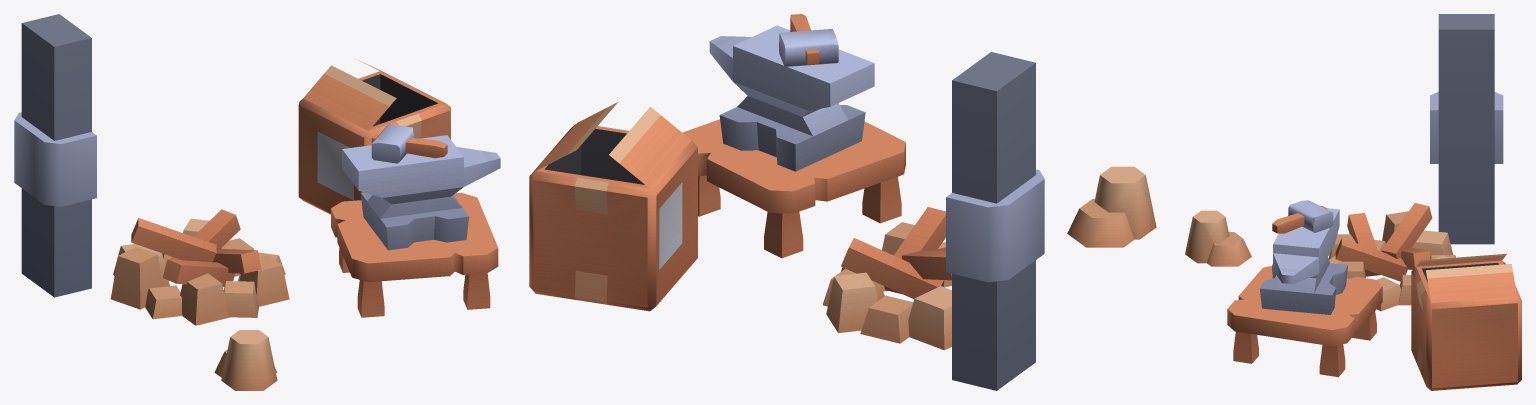
The model's file is bld_smelter_2x2.glb.
3 renders of one model, left to right at view 1: azimuth 30°, elevation 25°; view 2: azimuth 150°, elevation 25°; view 3: azimuth 270°, elevation 25°, orthographic. The views are drawn at different scales.
Parts seen in each view (by area): view 1: workbench-anvil, chimney, box-open, campfire-pit, wood, resource-stone, hammer; view 2: workbench-anvil, box-open, chimney, campfire-pit, wood, resource-stone, hammer; view 3: chimney, box-open, workbench-anvil, wood, campfire-pit, resource-stone, hammer.
Boxes of the visible parts, left/top/right/bottom form: workbench-anvil: left=331, top=135, right=500, bottom=317; chimney: left=14, top=14, right=96, bottom=297; box-open: left=298, top=59, right=450, bottom=214; campfire-pit: left=110, top=218, right=289, bottom=325; wood: left=131, top=209, right=261, bottom=286; resource-stone: left=214, top=330, right=277, bottom=390; hammer: left=371, top=124, right=447, bottom=163; workbench-anvil: left=682, top=25, right=905, bottom=258; box-open: left=529, top=102, right=697, bottom=311; chimney: left=946, top=52, right=1044, bottom=390; campfire-pit: left=822, top=222, right=951, bottom=350; wood: left=841, top=207, right=951, bottom=298; resource-stone: left=1067, top=166, right=1156, bottom=247; hammer: left=779, top=14, right=838, bottom=66; chimney: left=1430, top=14, right=1503, bottom=244; box-open: left=1411, top=253, right=1521, bottom=390; workbench-anvil: left=1227, top=208, right=1382, bottom=377; wood: left=1335, top=203, right=1432, bottom=281; campfire-pit: left=1328, top=211, right=1455, bottom=311; resource-stone: left=1185, top=210, right=1251, bottom=266; hammer: left=1272, top=200, right=1333, bottom=233.
Bounding box in the file's own units: 1.84 × 1.1 × 1.56.
Materials: 5 (5 with a texture image).
